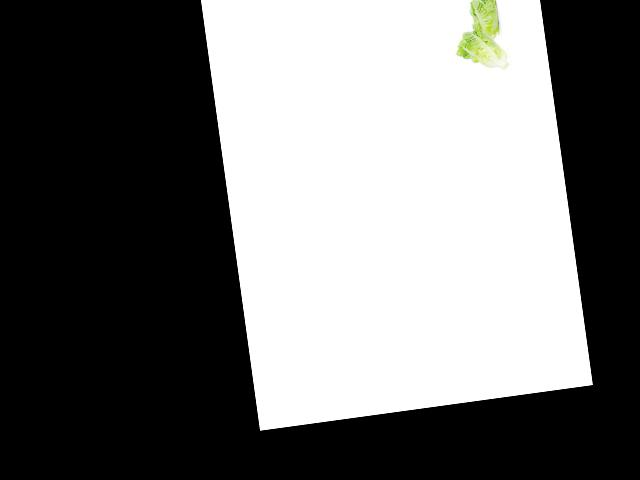lettuce: (454, 20, 513, 76)
